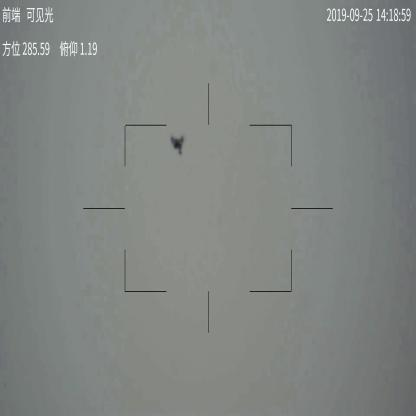uav: (168, 134, 186, 156)
